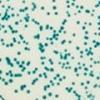Blue_green: (88, 94, 96, 100), (7, 62, 14, 68), (86, 92, 92, 99), (25, 88, 31, 95), (94, 3, 100, 9), (75, 19, 81, 25), (83, 35, 89, 41), (18, 17, 23, 24), (33, 34, 40, 39), (73, 66, 78, 73), (20, 84, 27, 89), (1, 3, 6, 9), (19, 8, 25, 13), (30, 1, 36, 6), (51, 5, 57, 10), (81, 26, 87, 31), (82, 41, 87, 47), (40, 48, 46, 53), (16, 50, 21, 56), (65, 52, 71, 57), (88, 63, 93, 69), (17, 73, 23, 78), (49, 67, 55, 72), (75, 72, 80, 78), (92, 83, 98, 88), (80, 82, 86, 87), (13, 89, 19, 94), (47, 92, 53, 97), (41, 95, 47, 100), (42, 86, 47, 92), (9, 41, 13, 48), (5, 59, 12, 63), (15, 12, 20, 17), (24, 6, 29, 11), (14, 29, 19, 34), (14, 20, 19, 25), (24, 24, 29, 29), (65, 10, 70, 15), (66, 4, 71, 9), (75, 4, 80, 9), (79, 5, 84, 10), (93, 31, 98, 36), (83, 21, 88, 26), (84, 30, 89, 35), (89, 57, 94, 62), (95, 41, 100, 46), (39, 25, 44, 30), (49, 26, 54, 31), (44, 42, 49, 47), (50, 40, 55, 45), (72, 32, 77, 37), (60, 40, 65, 45), (0, 41, 5, 46), (23, 46, 28, 51), (15, 60, 20, 65), (20, 60, 25, 65), (83, 67, 88, 72), (4, 81, 9, 86), (8, 78, 13, 83), (9, 73, 14, 78), (61, 62, 66, 67), (77, 65, 82, 70), (84, 89, 89, 94), (83, 85, 88, 90), (86, 80, 91, 85), (34, 77, 39, 82), (11, 29, 15, 35), (46, 11, 50, 17), (65, 0, 71, 4), (91, 39, 97, 43), (60, 25, 64, 31), (4, 44, 10, 48), (17, 64, 23, 68), (27, 70, 31, 76), (32, 69, 36, 75), (34, 66, 38, 72), (18, 87, 24, 91), (56, 81, 60, 87), (61, 76, 67, 80), (77, 94, 81, 100), (45, 84, 51, 88), (38, 57, 45, 60), (0, 92, 3, 99), (8, 5, 12, 10), (1, 24, 5, 29), (21, 0, 26, 4), (25, 18, 29, 23), (41, 5, 45, 10), (61, 21, 65, 26), (76, 9, 81, 13), (85, 9, 90, 13), (89, 12, 93, 17), (88, 21, 92, 26), (80, 54, 84, 59), (84, 48, 88, 53), (86, 52, 90, 57), (89, 52, 94, 56), (88, 46, 93, 50), (94, 44, 98, 49), (31, 18, 35, 23), (36, 21, 40, 26), (45, 26, 49, 31), (39, 44, 44, 48), (48, 37, 53, 41), (52, 29, 57, 33), (55, 33, 60, 37), (58, 29, 62, 34), (68, 40, 72, 45), (45, 36, 49, 41), (17, 40, 21, 45), (20, 35, 24, 40), (22, 39, 26, 44), (25, 41, 29, 46), (26, 48, 31, 52), (4, 56, 9, 60), (13, 57, 17, 62), (21, 68, 25, 73), (22, 66, 26, 71), (40, 60, 44, 65), (58, 51, 62, 56), (57, 60, 61, 65), (59, 55, 63, 60), (64, 48, 68, 53), (66, 60, 70, 65), (70, 56, 75, 60), (75, 46, 80, 50), (82, 72, 87, 76), (93, 60, 97, 65), (1, 78, 6, 82), (5, 71, 9, 76), (7, 70, 12, 74), (49, 61, 54, 65), (42, 71, 46, 76), (67, 66, 72, 70), (89, 69, 93, 74), (96, 76, 100, 81), (30, 82, 35, 86), (32, 79, 36, 84), (38, 73, 42, 78), (44, 74, 48, 79), (53, 76, 57, 81), (58, 78, 63, 82), (65, 86, 69, 91), (69, 86, 74, 90), (71, 81, 75, 86), (75, 92, 79, 97), (54, 94, 59, 98), (48, 79, 53, 83), (51, 82, 55, 87), (1, 96, 6, 100), (6, 0, 12, 3), (97, 0, 100, 6), (97, 20, 100, 26), (0, 69, 3, 75), (34, 97, 40, 100), (1, 16, 5, 20), (4, 11, 8, 15), (5, 8, 9, 12), (11, 13, 15, 17), (25, 13, 29, 17), (31, 8, 35, 12), (33, 5, 37, 9), (54, 11, 58, 15), (63, 18, 67, 22), (67, 13, 71, 17), (73, 11, 77, 15), (71, 3, 75, 7), (91, 8, 95, 12), (79, 50, 83, 54), (88, 49, 92, 53), (52, 35, 56, 39), (55, 37, 59, 41), (63, 30, 67, 34), (62, 39, 66, 43), (13, 39, 17, 43), (18, 33, 22, 37), (0, 38, 4, 42), (25, 63, 29, 67), (27, 61, 31, 65), (63, 56, 67, 60), (64, 66, 68, 70), (45, 67, 49, 71), (77, 62, 81, 66), (82, 63, 86, 67), (90, 73, 94, 77), (56, 73, 60, 77), (67, 89, 71, 93), (72, 90, 76, 94), (3, 30, 8, 33), (10, 26, 13, 31), (51, 0, 56, 3), (38, 46, 43, 49), (12, 37, 17, 40), (43, 55, 46, 60), (54, 50, 57, 55), (97, 60, 100, 65), (14, 73, 17, 78), (48, 58, 51, 63), (97, 84, 100, 89), (0, 0, 3, 4), (0, 11, 2, 17), (11, 7, 14, 11), (5, 18, 9, 21), (7, 14, 10, 18), (8, 24, 12, 27), (27, 15, 30, 19), (70, 0, 76, 2), (97, 15, 100, 19), (34, 20, 37, 24), (40, 28, 43, 32), (45, 24, 49, 27), (53, 33, 57, 36), (38, 42, 42, 45), (0, 57, 2, 63), (61, 66, 65, 69), (43, 66, 47, 69), (98, 31, 100, 36), (98, 26, 100, 31), (0, 76, 2, 81), (24, 17, 27, 20), (36, 33, 39, 36), (52, 49, 55, 52), (89, 73, 92, 76), (98, 72, 100, 76), (4, 15, 7, 17), (0, 28, 2, 31), (37, 38, 39, 41), (0, 22, 1, 26)
